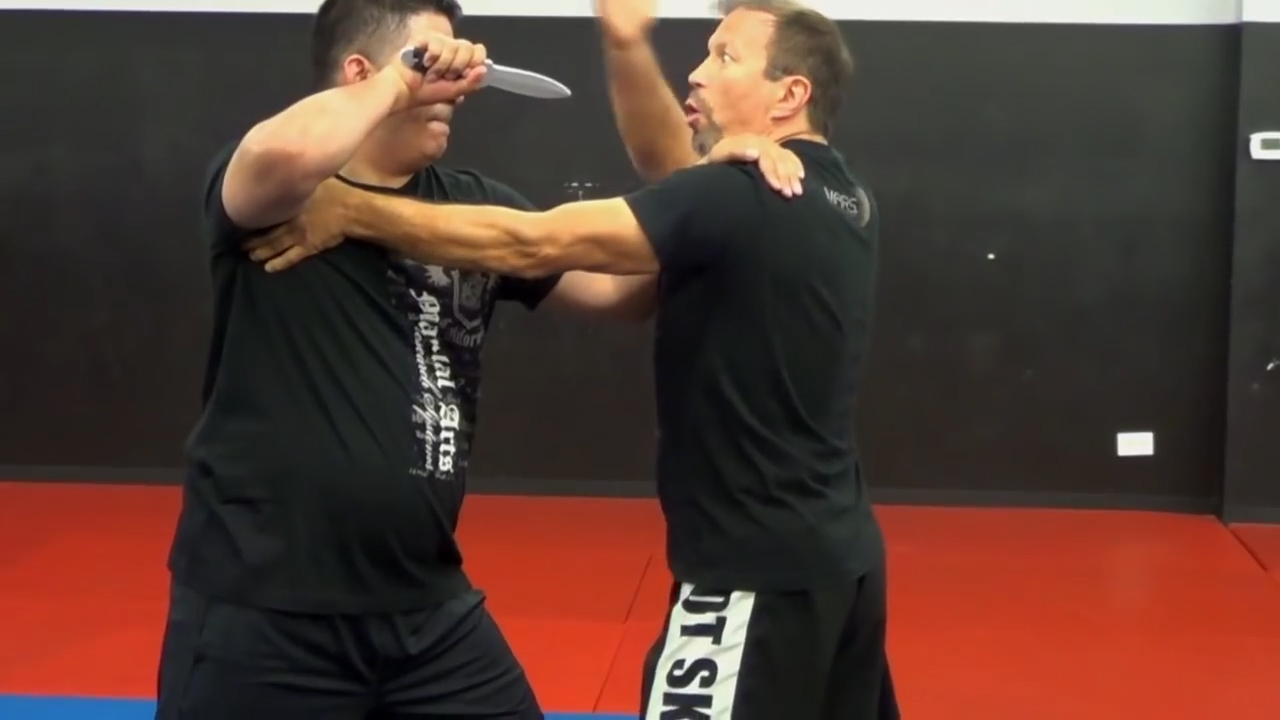knife: (391, 29, 579, 113)
